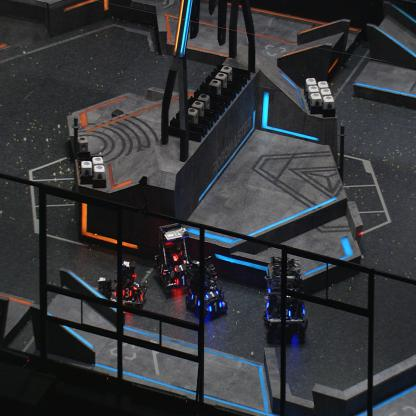car: (262, 255, 309, 340), (153, 220, 193, 295), (184, 254, 228, 322), (113, 261, 148, 312), (88, 275, 122, 322)
